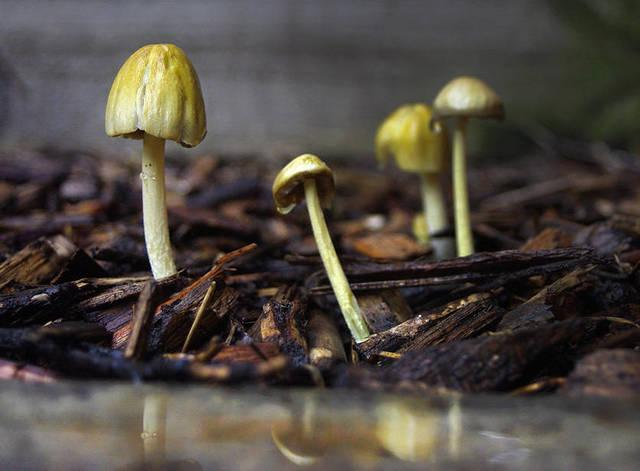Edible Mushroom: (103, 42, 208, 280), (271, 152, 371, 344), (429, 75, 506, 257), (374, 101, 455, 257)
